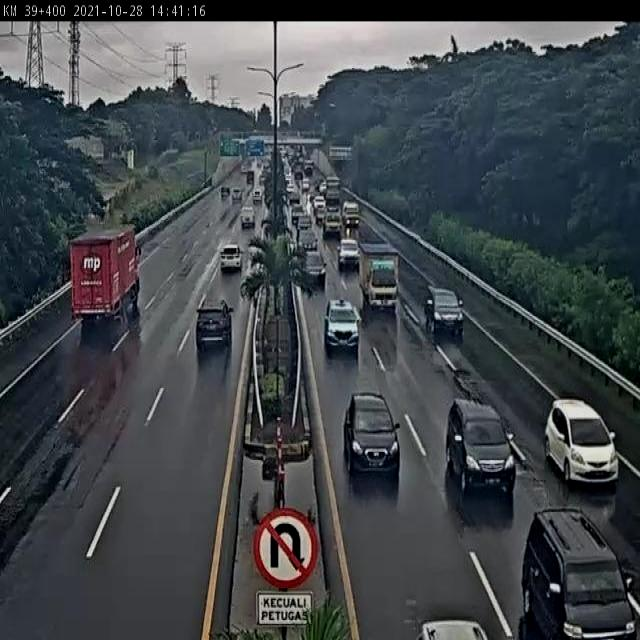Car: (522, 507, 634, 640), (541, 392, 621, 493), (441, 396, 510, 497), (344, 388, 401, 489), (190, 295, 238, 361), (422, 280, 469, 342), (325, 301, 359, 352), (218, 243, 246, 273)
Truck: (67, 224, 144, 325), (356, 243, 402, 312)
